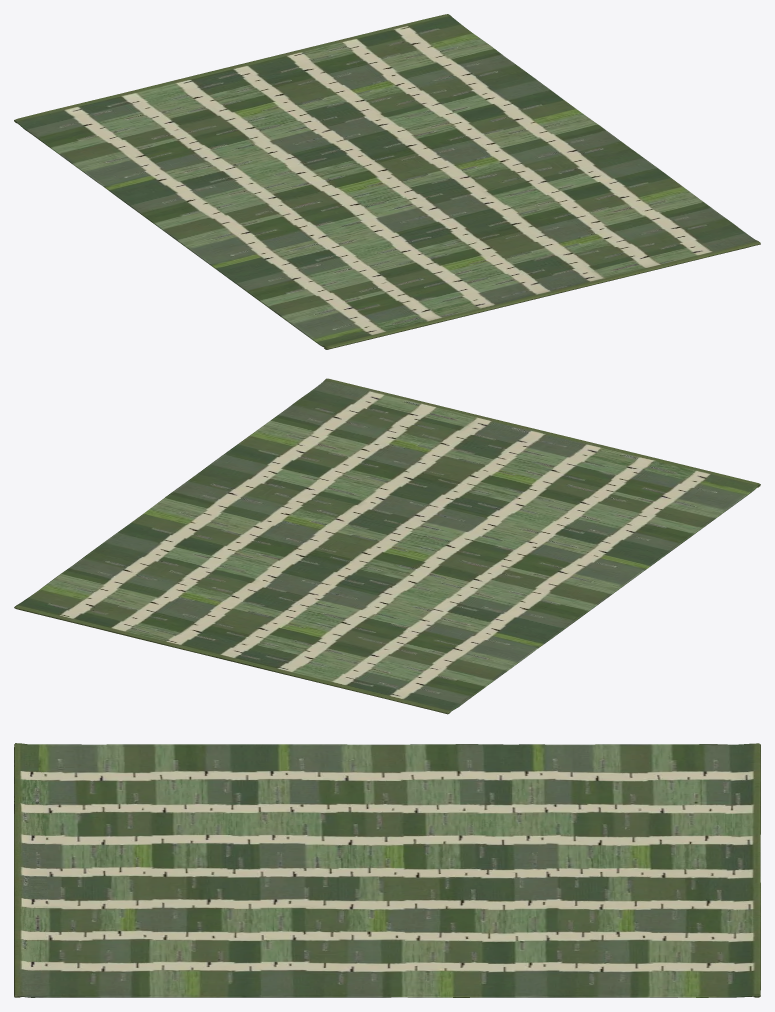
3 views of the same model, one above another, from view 1: azimuth 30°, elevation 25°; view 2: azimuth 150°, elevation 25°; view 3: azimuth 270°, elevation 25° (orthographic). The views are drawn at different scales.
Visible parts, largest first — view 1: ASY_ART_80593762_S01_NV01.001; view 2: ASY_ART_80593762_S01_NV01.001; view 3: ASY_ART_80593762_S01_NV01.001.
Boxes of the visible parts, x1=… form: ASY_ART_80593762_S01_NV01.001: x1=14, y1=14, x2=760, y2=349; ASY_ART_80593762_S01_NV01.001: x1=14, y1=378, x2=760, y2=714; ASY_ART_80593762_S01_NV01.001: x1=14, y1=743, x2=760, y2=997.
Bounding box in the file's own units: 2.4 × 0.0132 × 3.
1 material, 1 textured.
